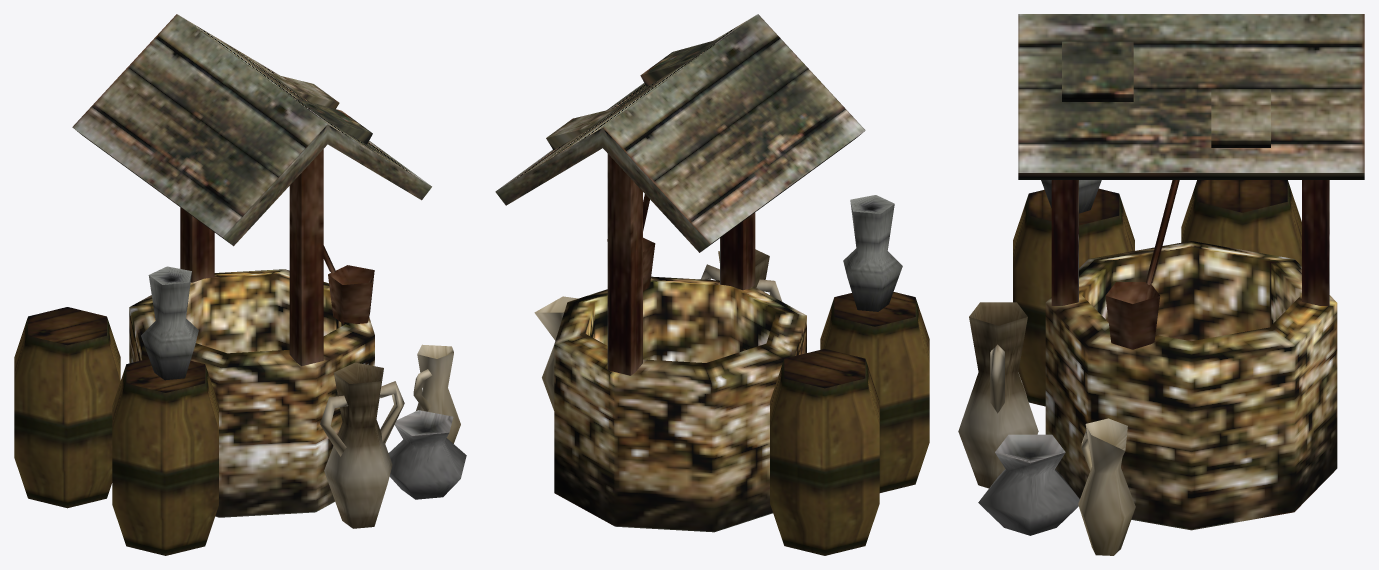
The model's file is Well01.glb.
3 views of the same model, side by side, from view 1: azimuth 30°, elevation 25°; view 2: azimuth 150°, elevation 25°; view 3: azimuth 270°, elevation 25° (orthographic). The views are drawn at different scales.
Parts seen in each view (by area): view 1: Well01; view 2: Well01; view 3: Well01.
Boxes of the visible parts, box(x1,y1,x2,y2) form: Well01: box(14, 14, 466, 555); Well01: box(495, 14, 929, 555); Well01: box(958, 14, 1364, 555).
Bounding box in the file's own units: 2.76 × 2.71 × 2.19.
4 materials, 4 textured.
